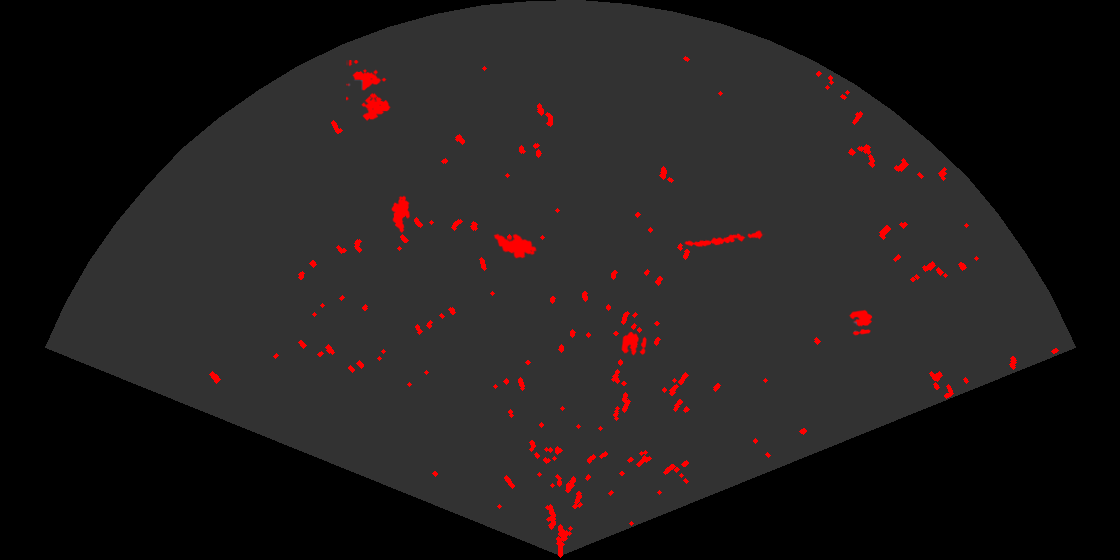AUV: (492, 232, 538, 260), (390, 194, 411, 235)
ball: (847, 308, 874, 337), (620, 330, 648, 357)
cage: (346, 60, 392, 123)
chain: (683, 229, 766, 249)
